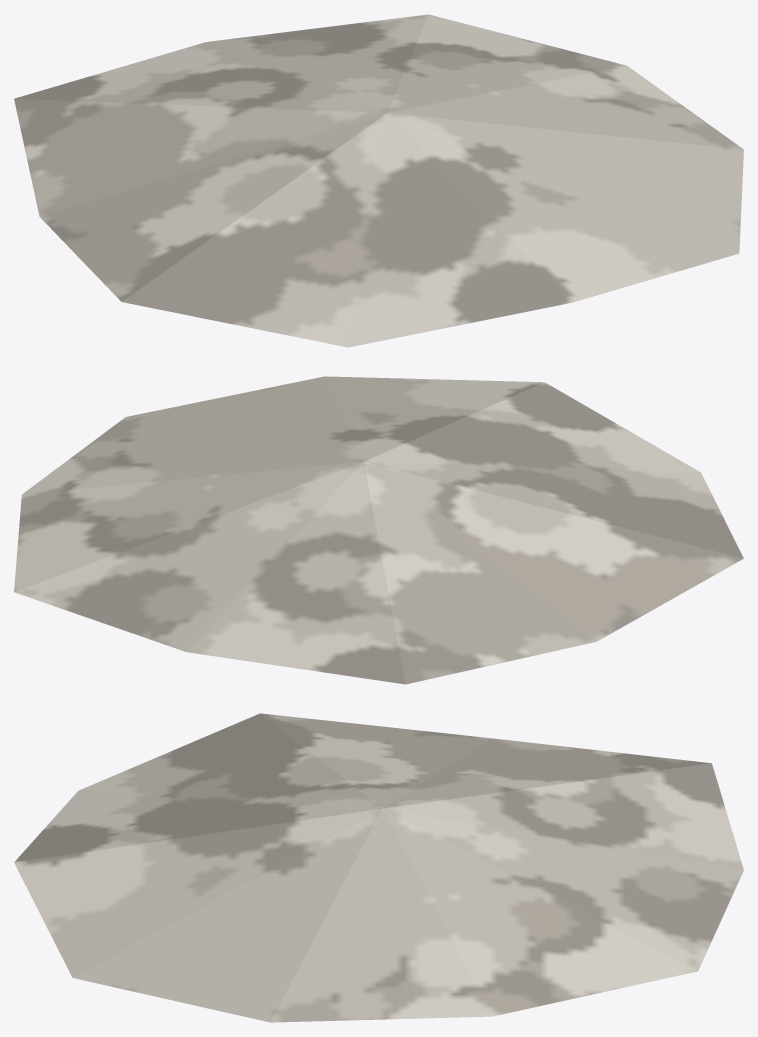
Rendered from campfire_embers.fbx.
The picture shows the model from 3 angles, top to bottom: view 1: azimuth 30°, elevation 25°; view 2: azimuth 150°, elevation 25°; view 3: azimuth 270°, elevation 25°; orthographic projection. The views are drawn at different scales.
Parts seen in each view (by area): view 1: campfire_embers; view 2: campfire_embers; view 3: campfire_embers.
Part boxes in pixels (bbox=[...]): campfire_embers: bbox=[14, 14, 743, 347]; campfire_embers: bbox=[14, 376, 743, 684]; campfire_embers: bbox=[14, 713, 743, 1022].
Bounding box in the file's own units: 66.17 × 7.65 × 66.97.
